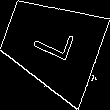L_W: (26, 21, 77, 68)
